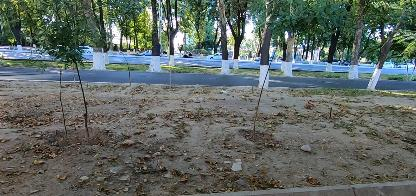tree: (253, 1, 286, 87), (77, 2, 116, 71), (347, 0, 368, 85), (213, 1, 236, 75), (143, 0, 165, 74)
